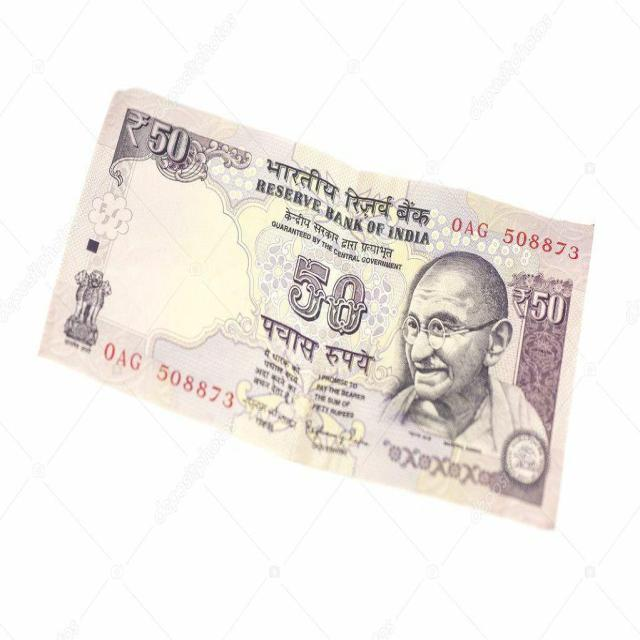50IndianRupees: (59, 80, 594, 526)
